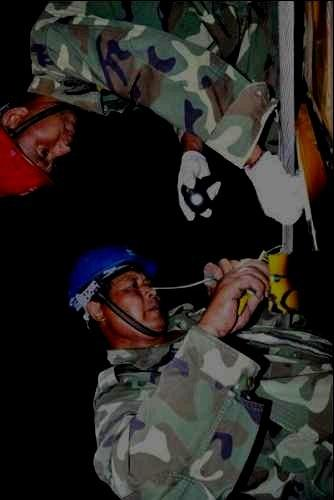helmet: (65, 243, 164, 333), (1, 93, 77, 198)
